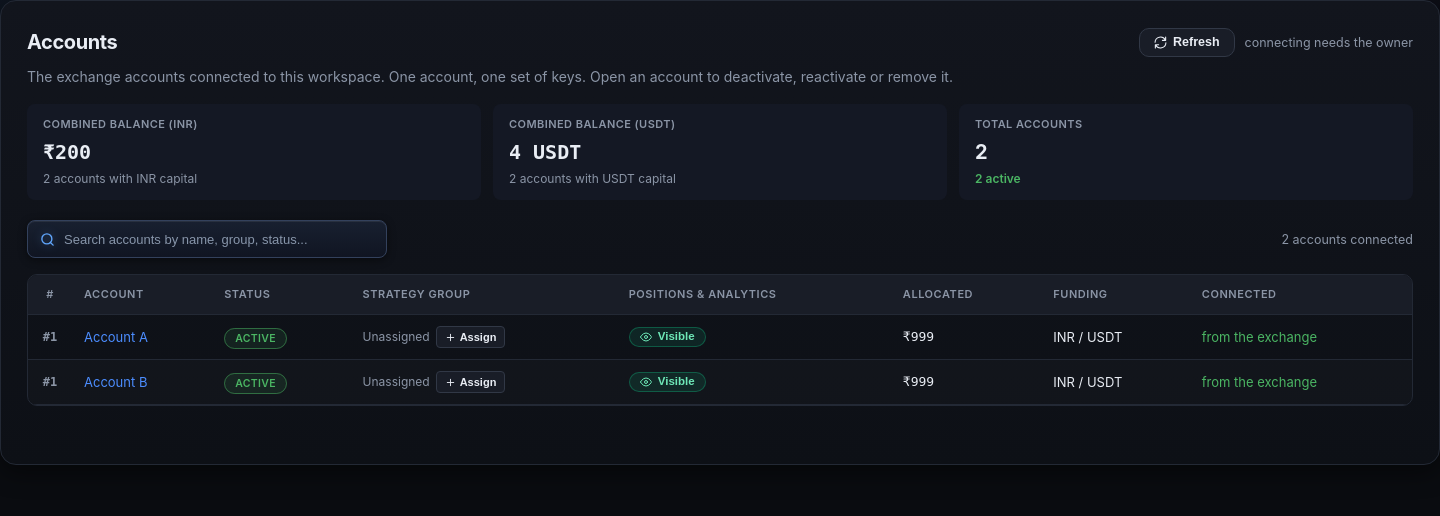
Scenario: account list balance refresh › the real Refresh button reads exchange balances, waits for cache reload and reports partial failures
Click the button "Refresh" at (1187, 42), box [1139,28,1234,57]
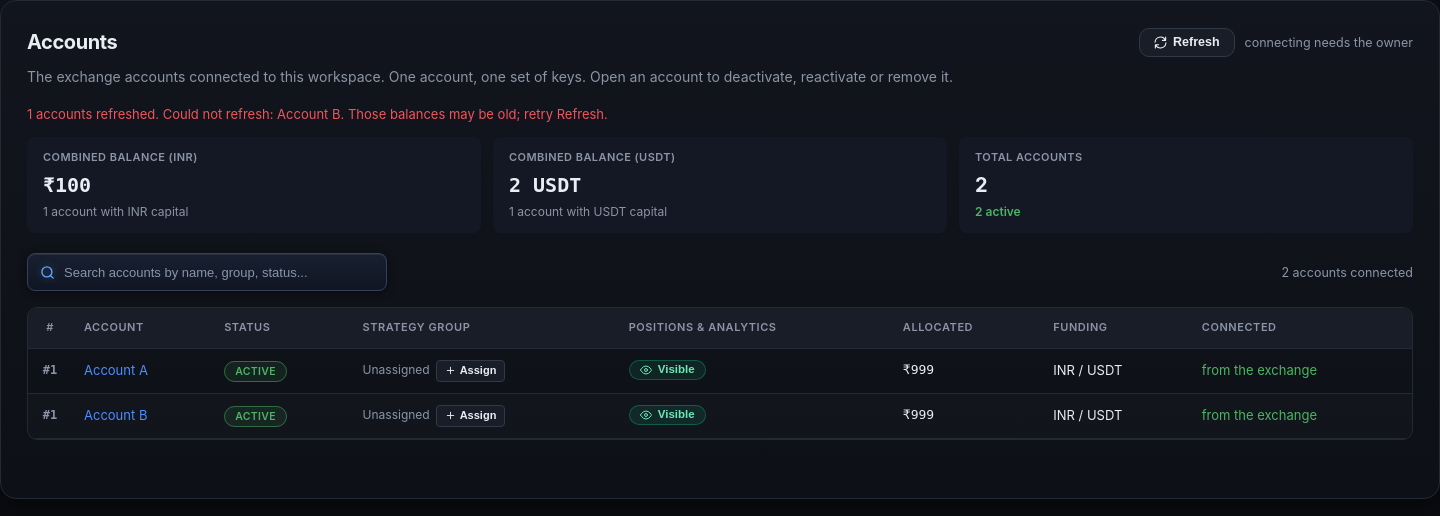
Expected: the message shows "1 accounts refreshed. Could not refresh: Account B", [27,106,608,122]
Expected: the text "₹100" is shown, [43,173,91,197]
Expected: the text "2 USDT" is shown, [509,173,581,197]
